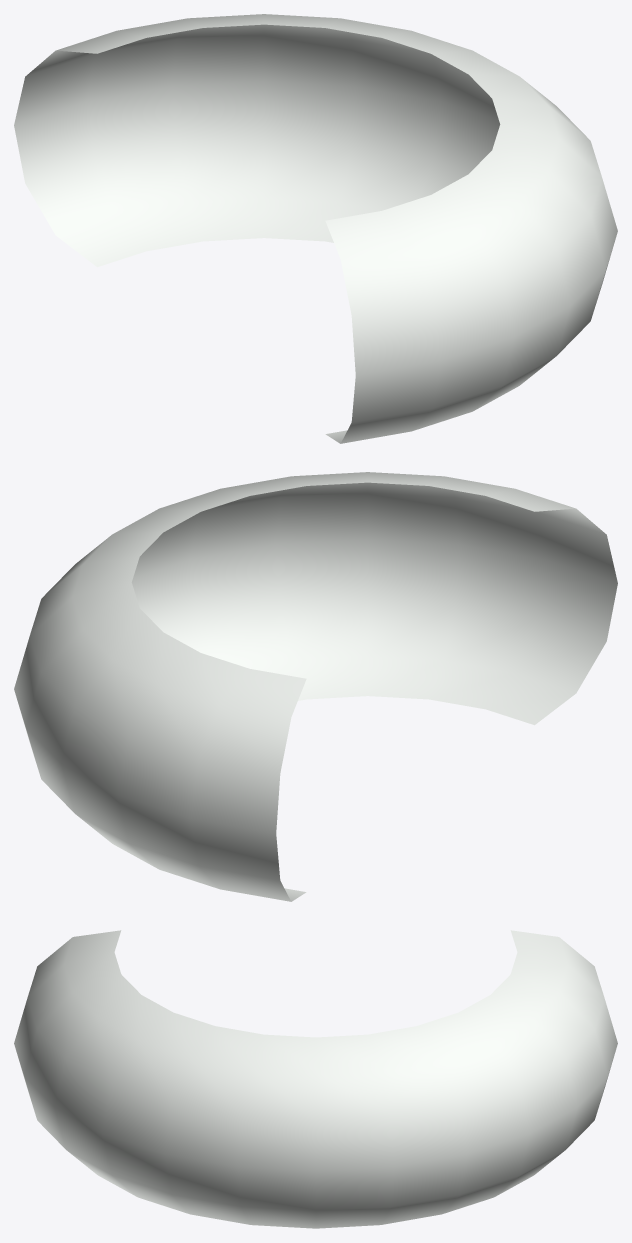
File: M_banhu01.FBX
3 views of the same model, one above another, from view 1: azimuth 30°, elevation 25°; view 2: azimuth 150°, elevation 25°; view 3: azimuth 270°, elevation 25° (orthographic). The views are drawn at different scales.
Parts seen in each view (by area): view 1: M_banhu01; view 2: M_banhu01; view 3: M_banhu01.
Boxes of the visible parts, box(x1,y1,x2,y2) form: M_banhu01: box(14, 14, 617, 443); M_banhu01: box(14, 472, 617, 901); M_banhu01: box(14, 930, 617, 1228).
Bounding box in the file's own units: 282 × 149 × 448.
